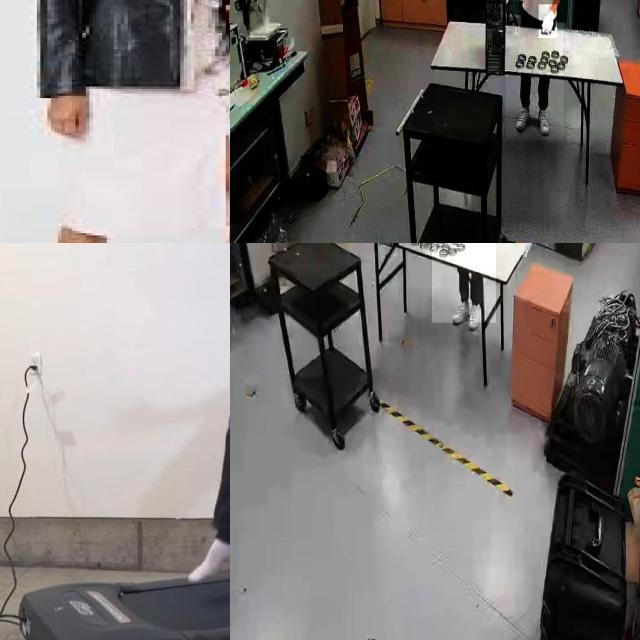hand_glove: (538, 4, 558, 39), (500, 0, 519, 17)
person: (506, 0, 564, 140), (431, 243, 496, 323)
shoes: (465, 296, 483, 334), (450, 296, 470, 326), (513, 101, 533, 130), (536, 106, 552, 136)
